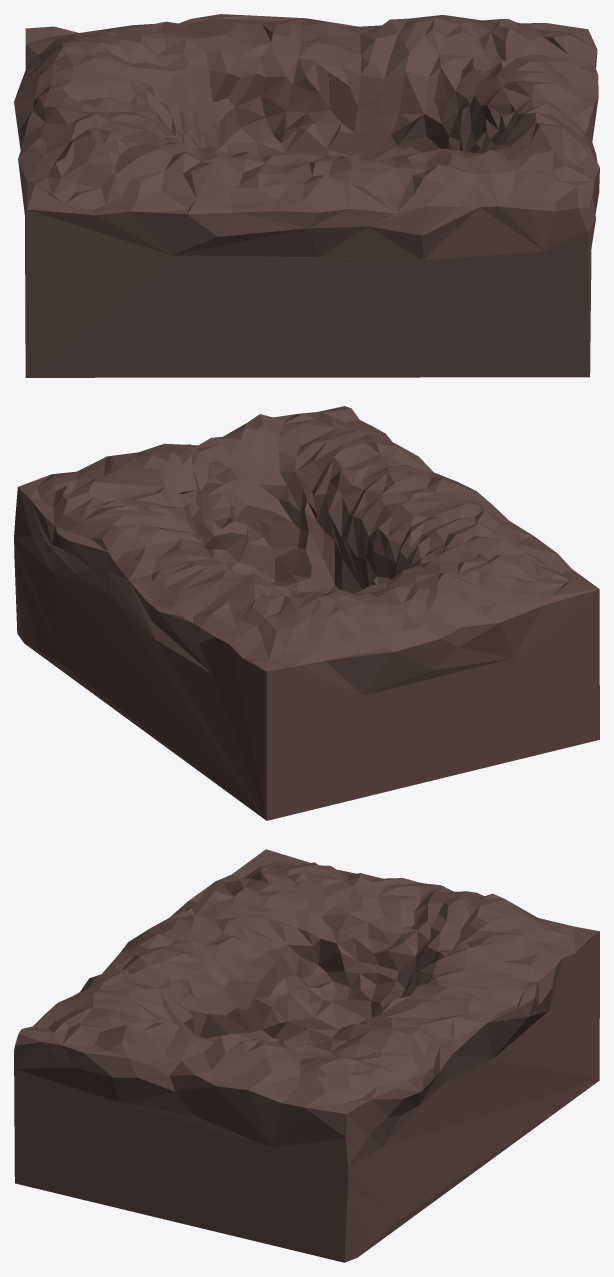
Rendered from excavatorDirtPit.fbx.
3 renders of one model, top to bottom at view 1: azimuth 30°, elevation 25°; view 2: azimuth 150°, elevation 25°; view 3: azimuth 270°, elevation 25°, orthographic. The views are drawn at different scales.
Parts seen in each view (by area): view 1: ExcavatorDirtPit; view 2: ExcavatorDirtPit; view 3: ExcavatorDirtPit.
Part boxes in pixels (x1,y1,x2,y2): ExcavatorDirtPit: [14, 14, 599, 377]; ExcavatorDirtPit: [14, 406, 599, 820]; ExcavatorDirtPit: [14, 849, 599, 1262].
Size of the model in its own units: 4158 by 1300 by 3870.
